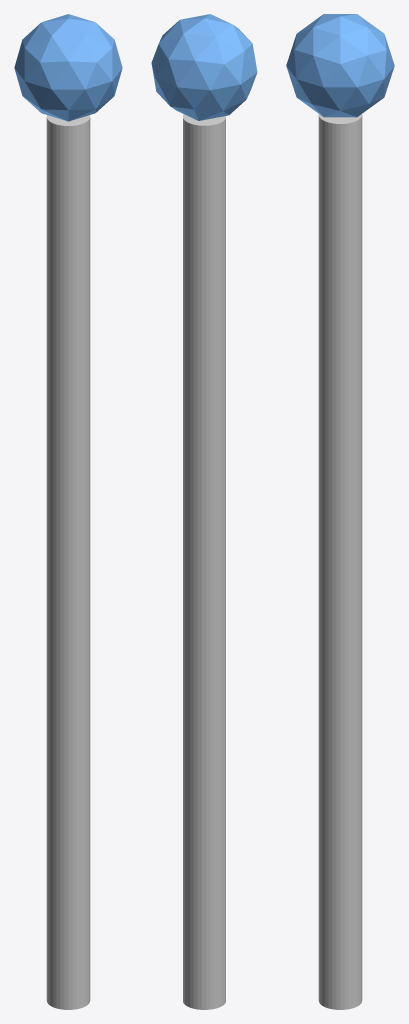
File: Weapon_Staff.fbx
3 views of the same model, side by side, from view 1: azimuth 90°, elevation 25°; view 2: azimuth 150°, elevation 25°; view 3: azimuth 270°, elevation 25° (orthographic).
Visible parts, largest first — view 1: Staff, StaffGem; view 2: Staff, StaffGem; view 3: Staff, StaffGem.
Boxes of the visible parts, x1,y1,x2,y2 form: Staff: (46,115,90,1009); StaffGem: (14,14,122,121); Staff: (183,114,225,1009); StaffGem: (151,14,257,120); Staff: (318,114,362,1009); StaffGem: (286,14,394,117).
Size of the model in its own units: 0.1902 by 2 by 0.2.
